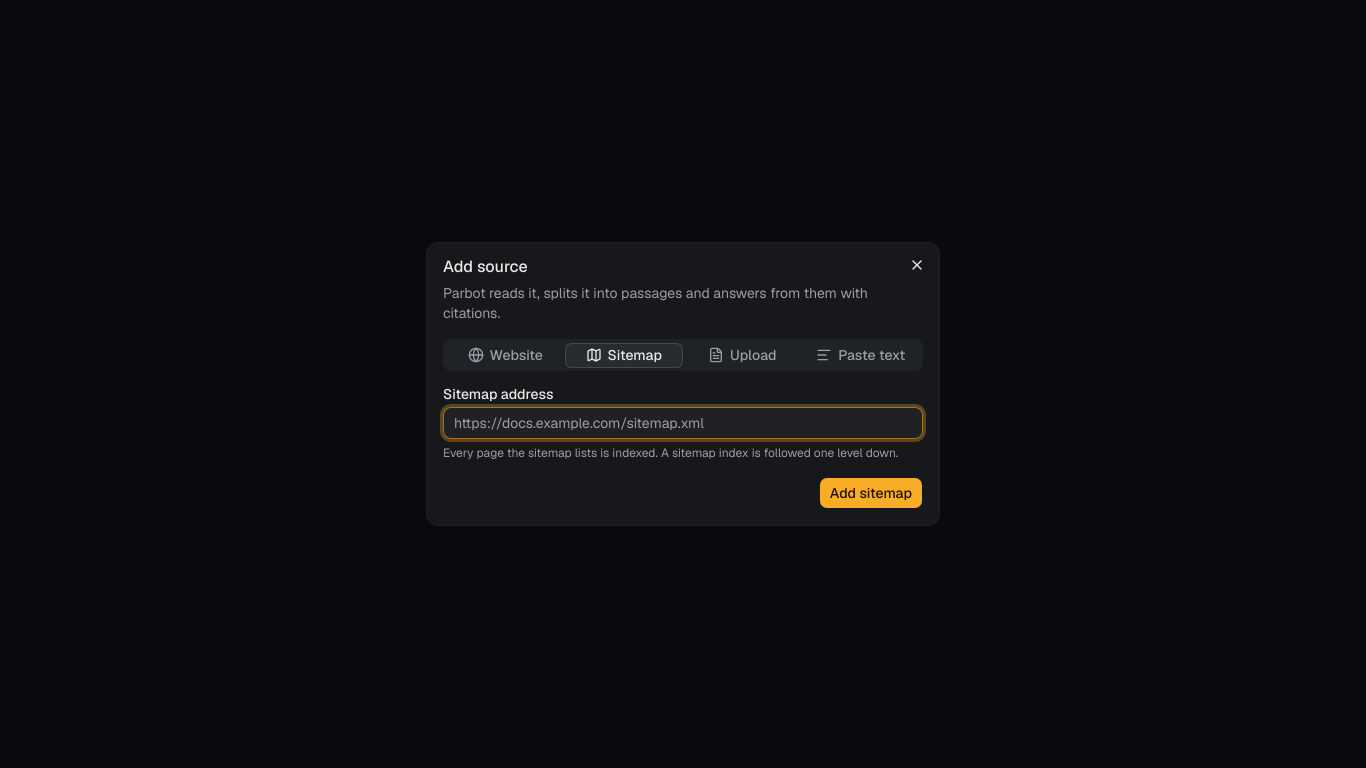
AddSourceDialog › checks the address itself before drawing anything
Type "ftp://docs.example.com/sitemap.xml" into the field labelled "Sitemap address" at (683, 423), box 443,407 -> 923,439
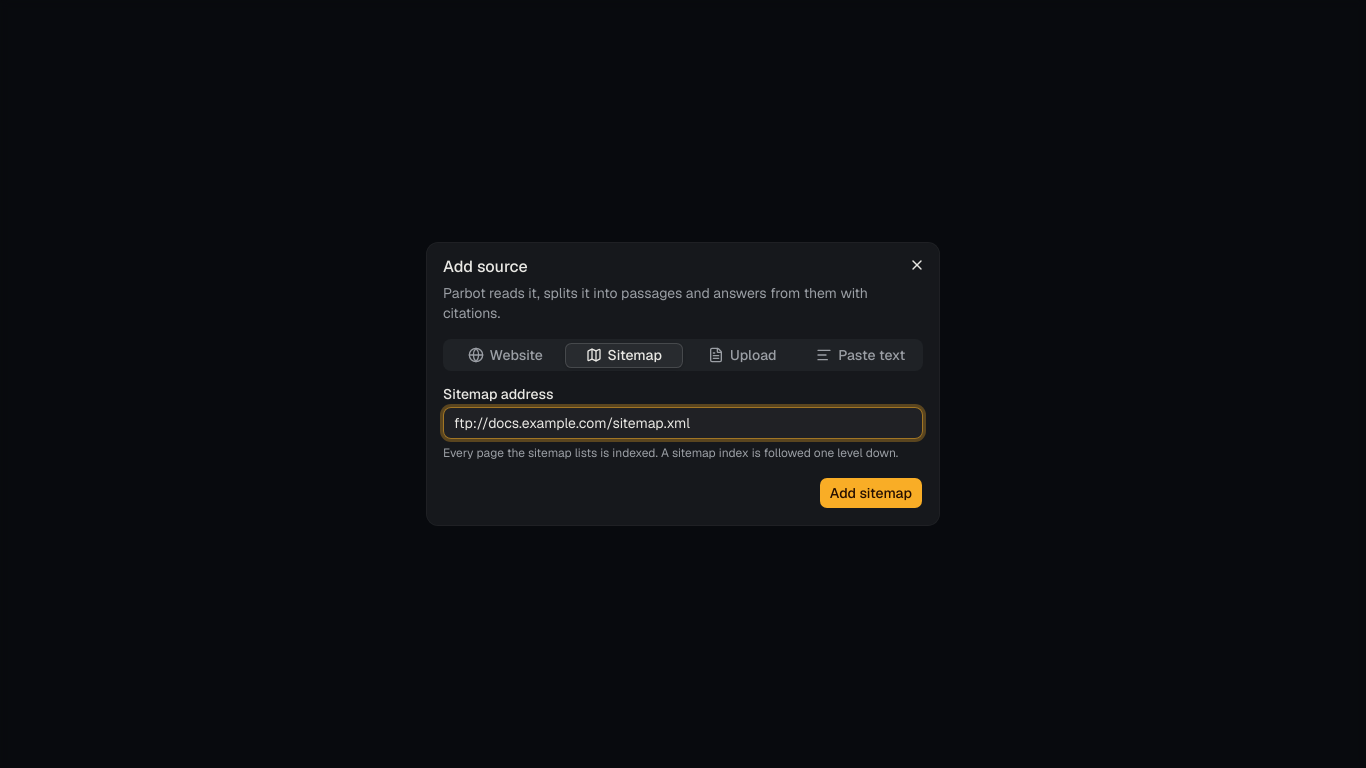
Click the button "Add sitemap" at (871, 493), box 819,477 -> 923,509
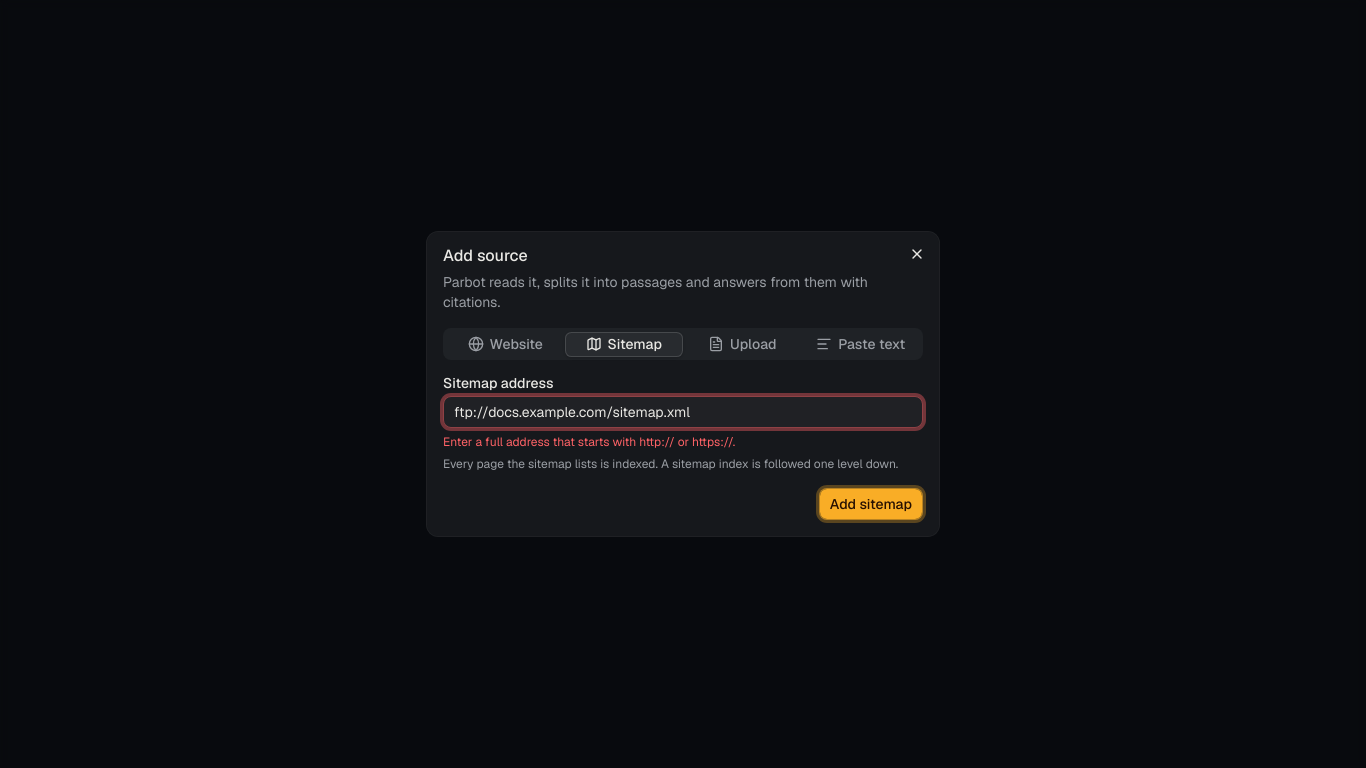
Result: the message reads "Enter a full address that starts with http:// or https://." at 443,434 -> 735,450
